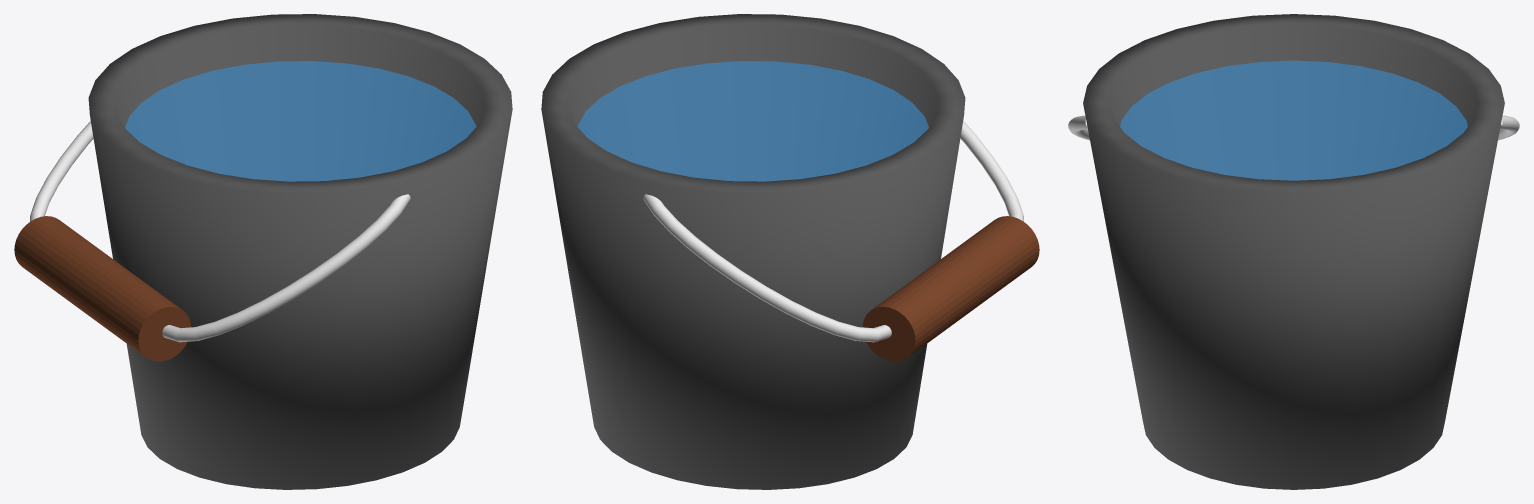
The model's file is Bucket.glb.
The picture shows the model from 3 angles, left to right: view 1: azimuth 30°, elevation 25°; view 2: azimuth 150°, elevation 25°; view 3: azimuth 270°, elevation 25°; orthographic projection.
Visible parts, largest first — view 1: Bucket, Bucket - Handle; view 2: Bucket, Bucket - Handle; view 3: Bucket, Bucket - Handle.
Boxes of the visible parts, x1=… form: Bucket: x1=14, y1=14, x2=512, y2=489; Bucket - Handle: x1=30, y1=121, x2=410, y2=342; Bucket: x1=541, y1=14, x2=1039, y2=489; Bucket - Handle: x1=643, y1=121, x2=1023, y2=342; Bucket: x1=1083, y1=14, x2=1504, y2=489; Bucket - Handle: x1=1068, y1=115, x2=1519, y2=140.
Bounding box in the file's own units: 0.6655 × 0.5 × 0.642.
